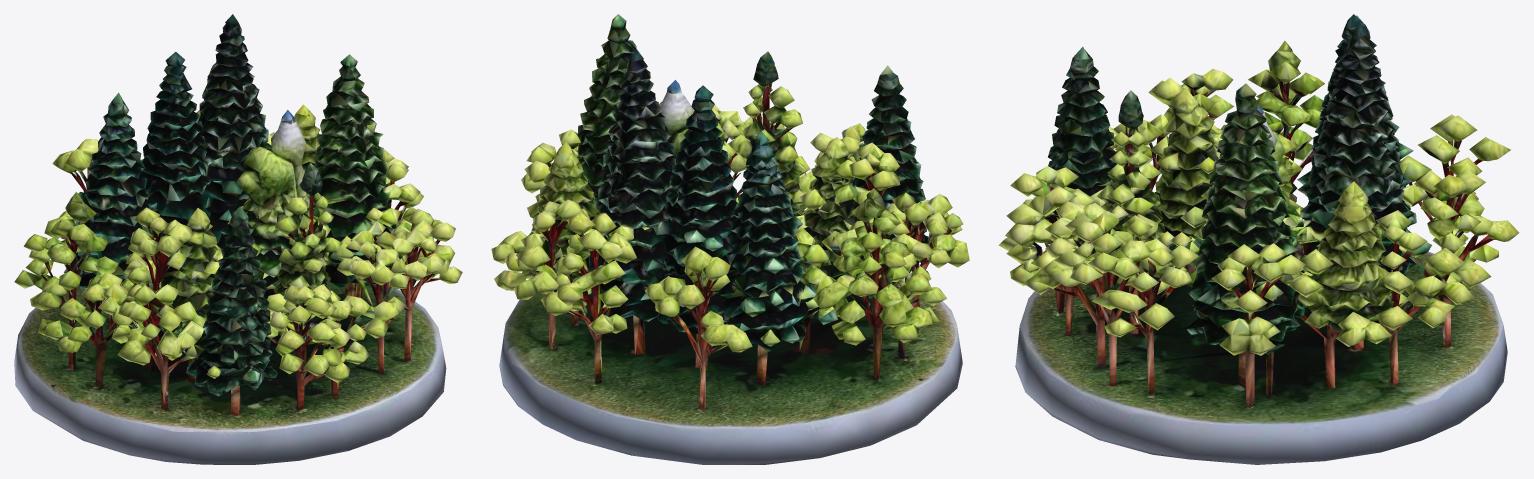
The model's file is forest.glb.
3 views of the same model, side by side, from view 1: azimuth 30°, elevation 25°; view 2: azimuth 150°, elevation 25°; view 3: azimuth 270°, elevation 25° (orthographic). The views are drawn at different scales.
Visible parts, largest first — view 1: forest; view 2: forest; view 3: forest.
Part boxes in pixels (bbox=[...]): forest: bbox=[14, 14, 462, 464]; forest: bbox=[491, 14, 969, 464]; forest: bbox=[998, 14, 1519, 464].
Size of the model in its own units: 0.9584 by 0.7694 by 1.
Materials: 1 (1 with a texture image).
